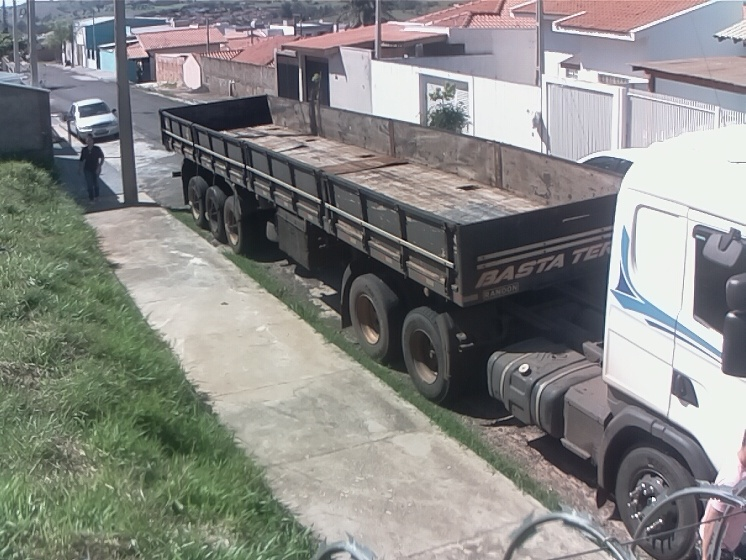person: (76, 133, 109, 204)
